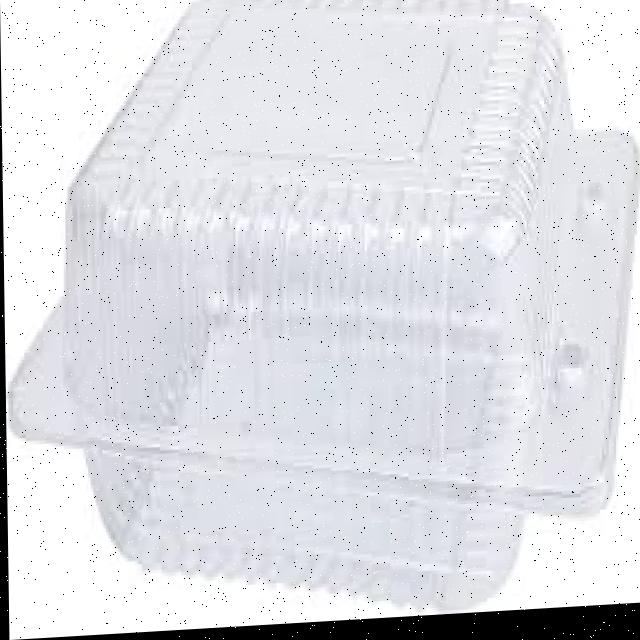disposable: (8, 0, 640, 640)
